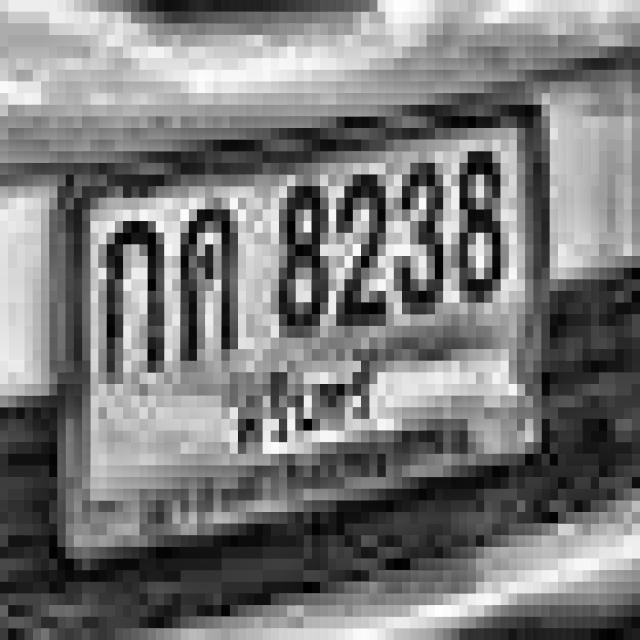license-plate: (32, 62, 584, 580)
